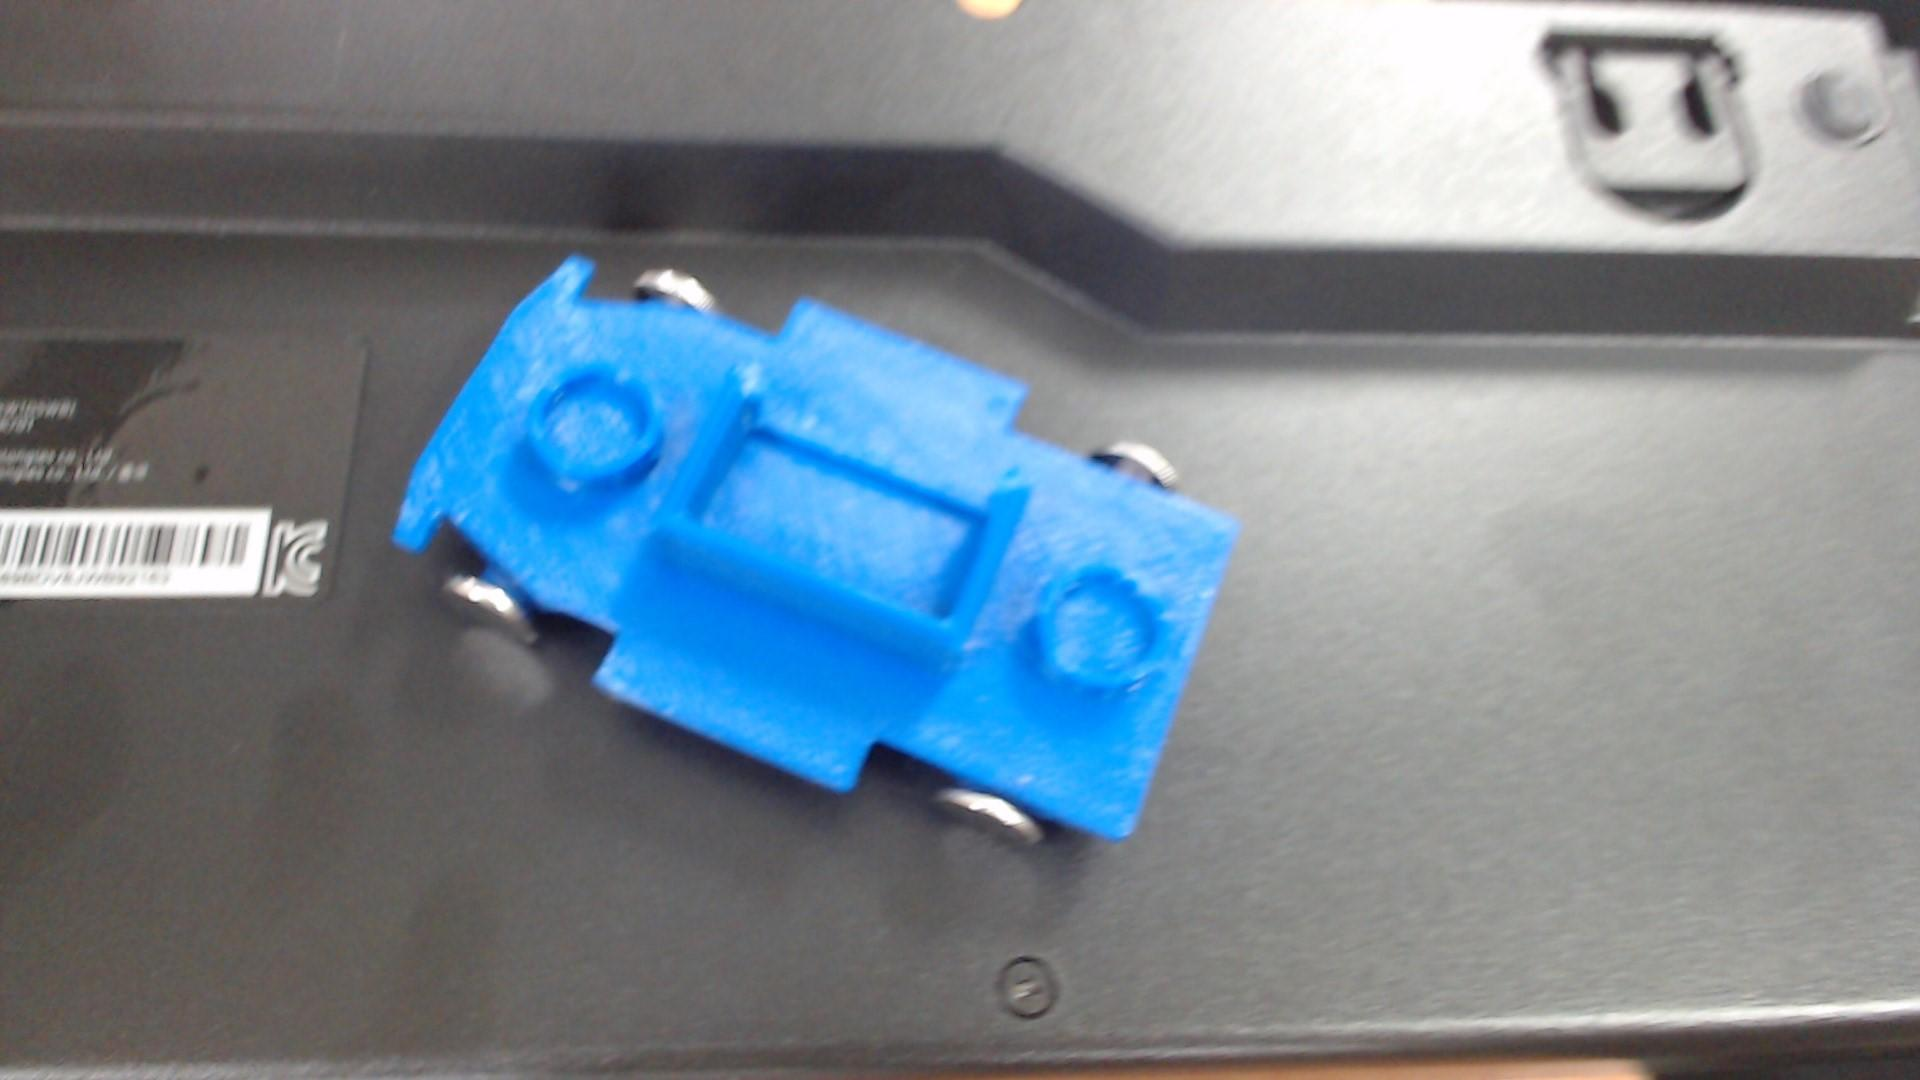lower_ng: (640, 353, 1069, 707)
